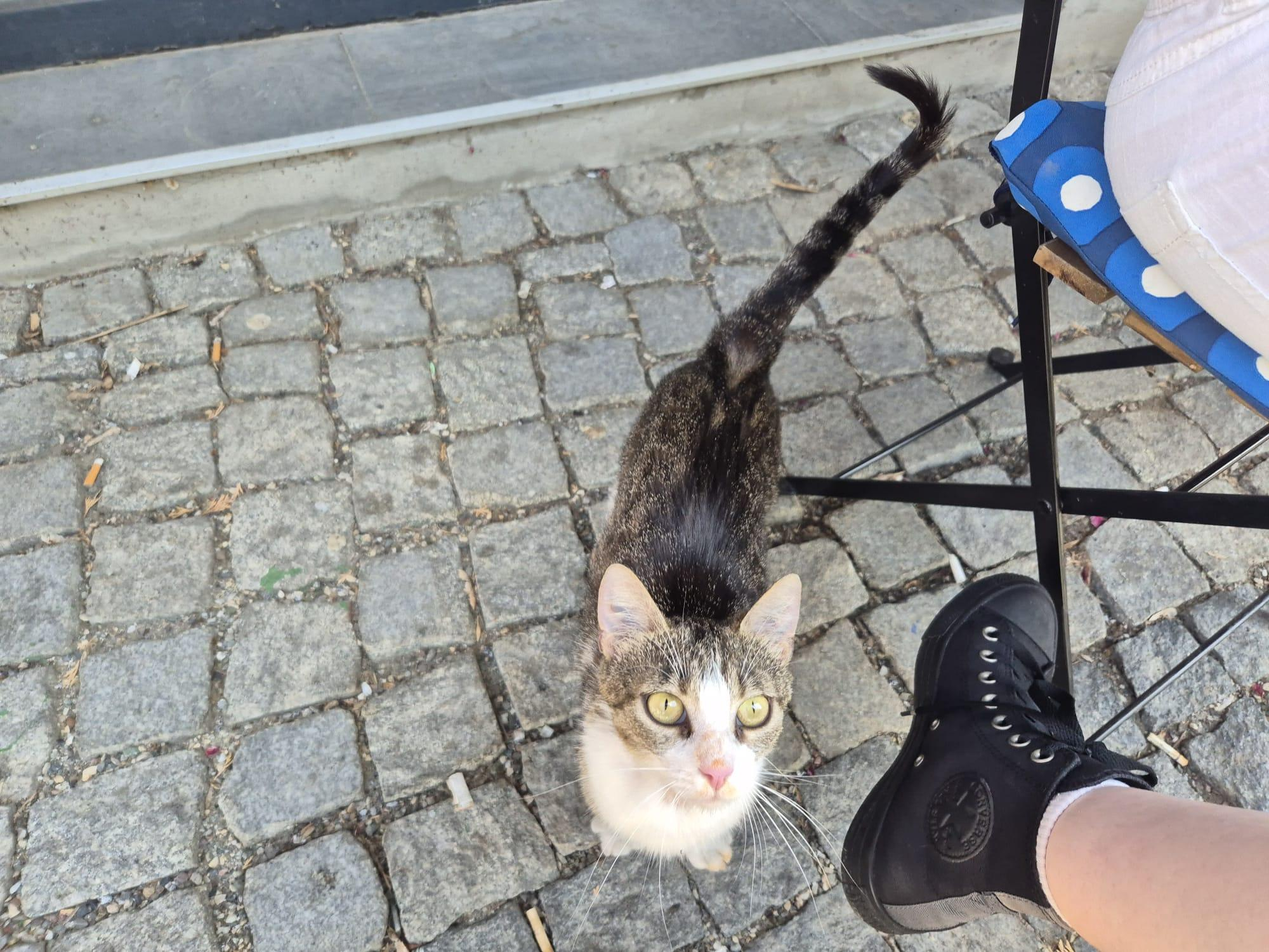macka: (572, 60, 956, 870)
